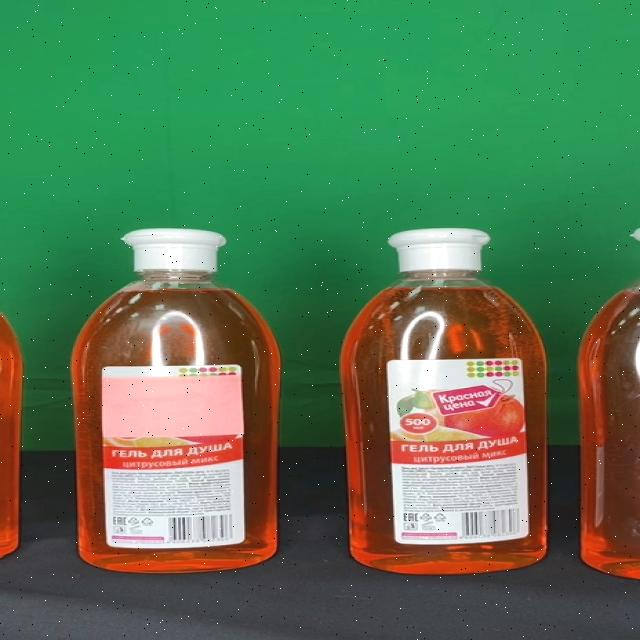Bottle: (340, 227, 551, 574), (70, 228, 282, 572)
Cap: (120, 228, 224, 272), (386, 228, 490, 270)
